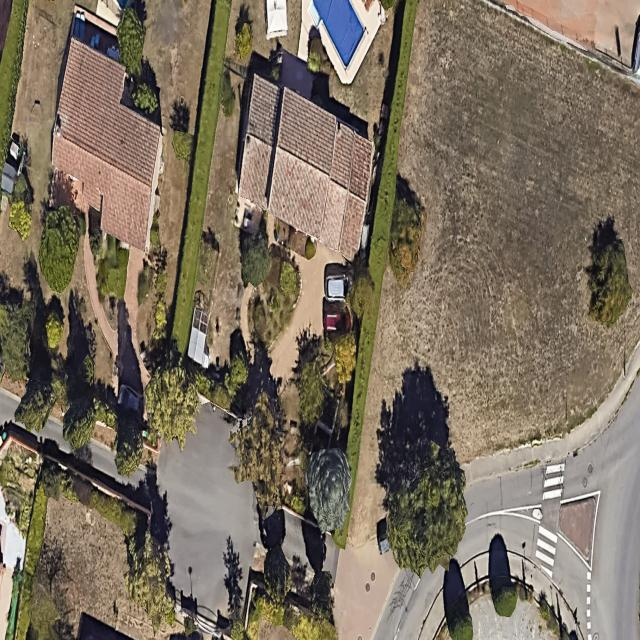maison: (195, 67, 412, 263), (38, 34, 176, 250)
